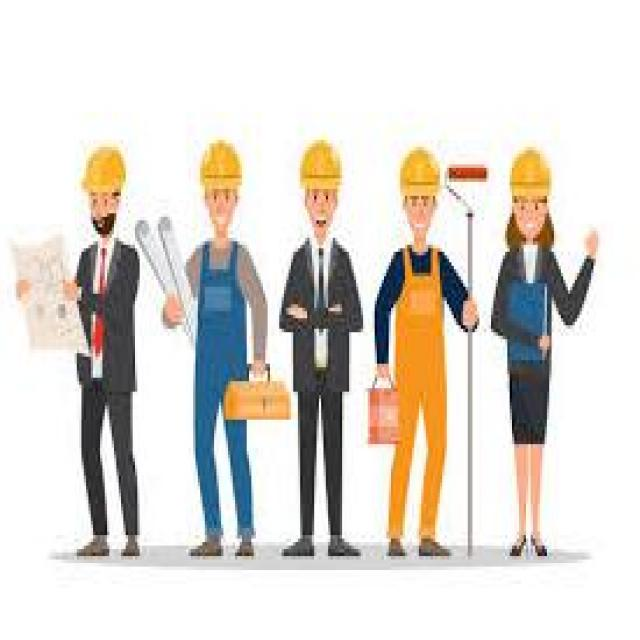Reflective-Jacket: (67, 231, 146, 395)
Safety-Helmet: (72, 133, 133, 206), (191, 133, 249, 203), (293, 130, 347, 200), (505, 136, 556, 206), (393, 140, 447, 203)
